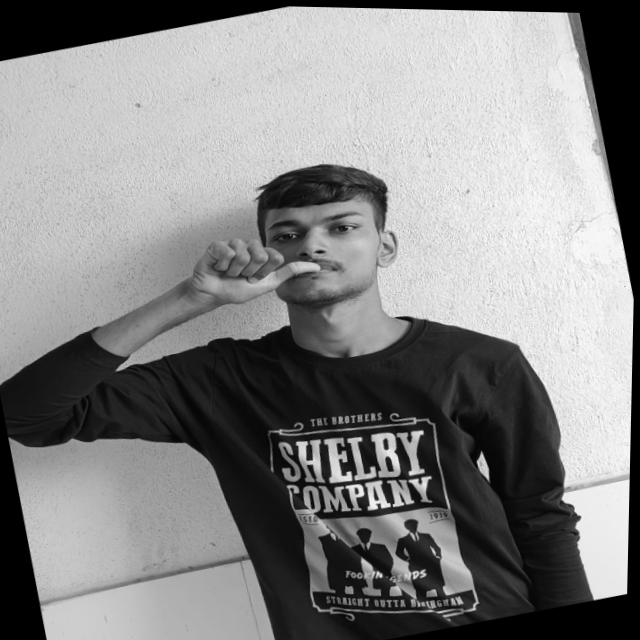Drink: (184, 217, 334, 317)
